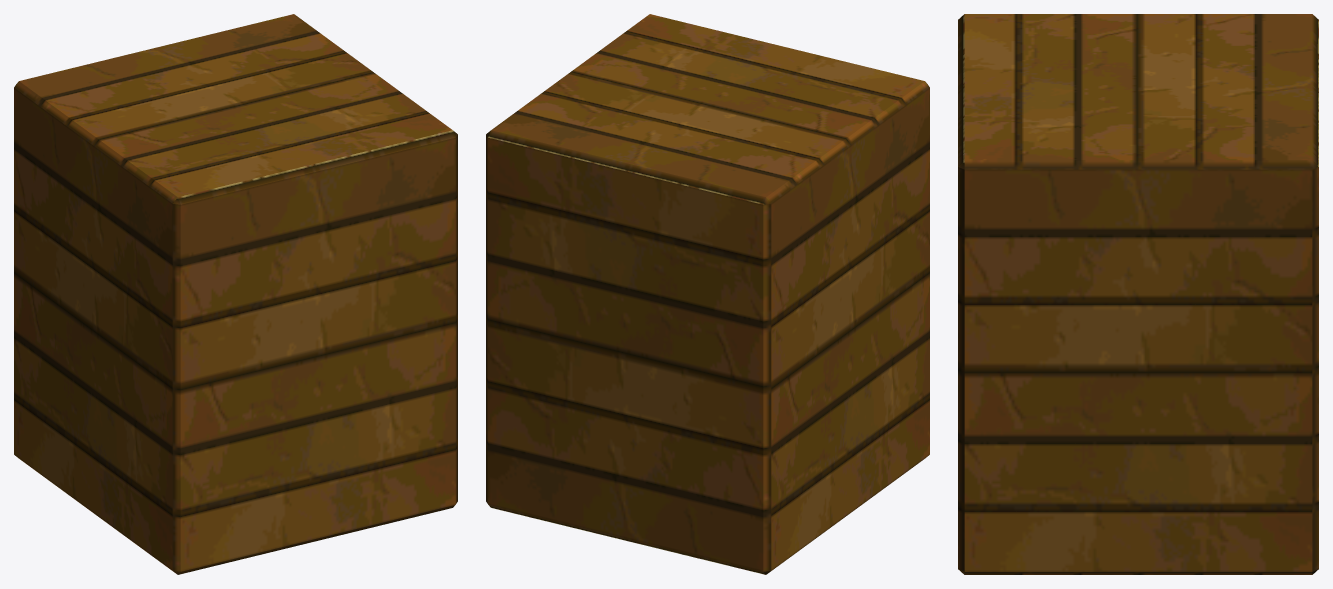
Rendered from SolidWallDamage1.obj.
3 renders of one model, left to right at view 1: azimuth 30°, elevation 25°; view 2: azimuth 150°, elevation 25°; view 3: azimuth 270°, elevation 25°, orthographic. The views are drawn at different scales.
Visible parts, largest first — view 1: SolidWall; view 2: SolidWall; view 3: SolidWall.
Boxes of the visible parts, bbox=[...] form: SolidWall: bbox=[14, 14, 457, 574]; SolidWall: bbox=[486, 14, 929, 574]; SolidWall: bbox=[958, 14, 1318, 574].
Bounding box in the file's own units: 16 × 20.25 × 16.
Materials: 1 (1 with a texture image).
